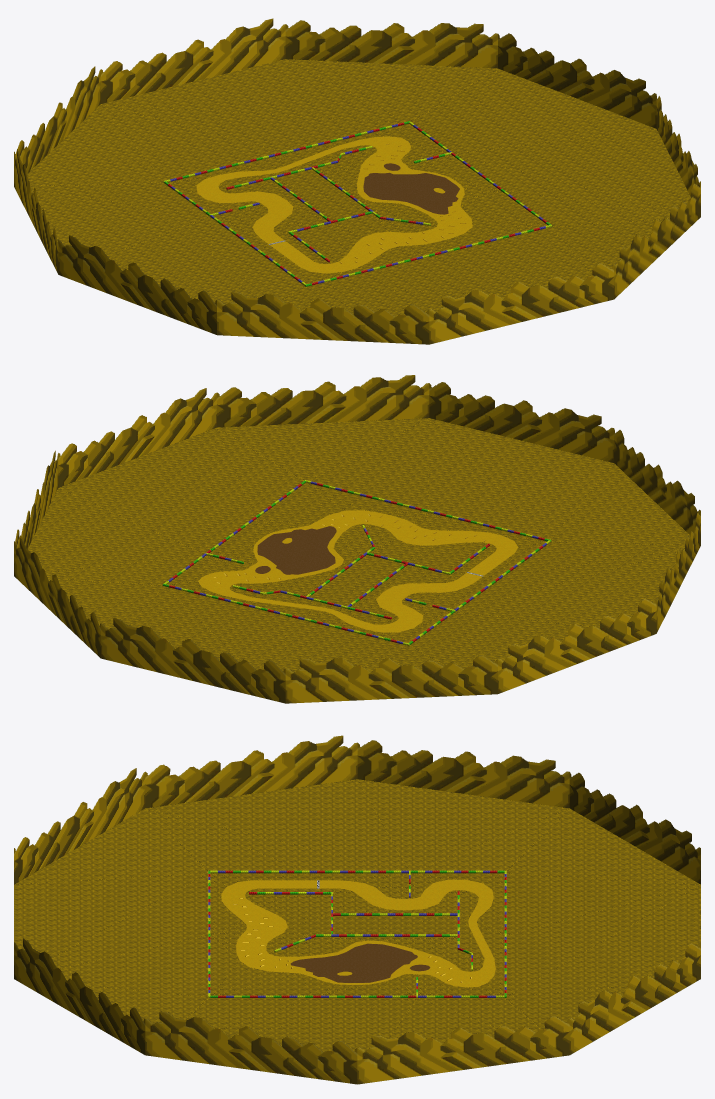
The model's file is old_choco_sfc-old_choco_sfc.glb.
3 renders of one model, top to bottom at view 1: azimuth 30°, elevation 25°; view 2: azimuth 150°, elevation 25°; view 3: azimuth 270°, elevation 25°, orthographic. The views are drawn at different scales.
Parts seen in each view (by area): view 1: old_choco_sfc; view 2: old_choco_sfc; view 3: old_choco_sfc.
Boxes of the visible parts, x1=… form: old_choco_sfc: x1=14, y1=18, x2=700, y2=344; old_choco_sfc: x1=14, y1=375, x2=700, y2=703; old_choco_sfc: x1=14, y1=735, x2=700, y2=1084.
Bounding box in the file's own units: 500 × 38.2 × 475.
Materials: 12 (12 with a texture image).
